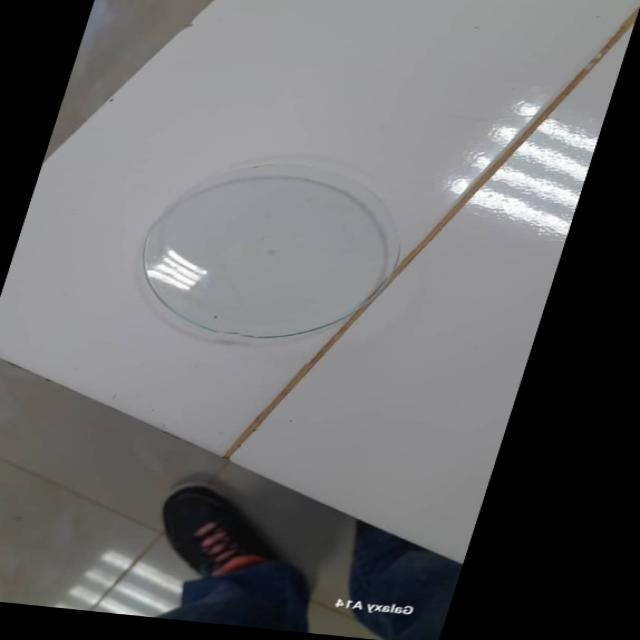Pedrish: (110, 162, 426, 355)
